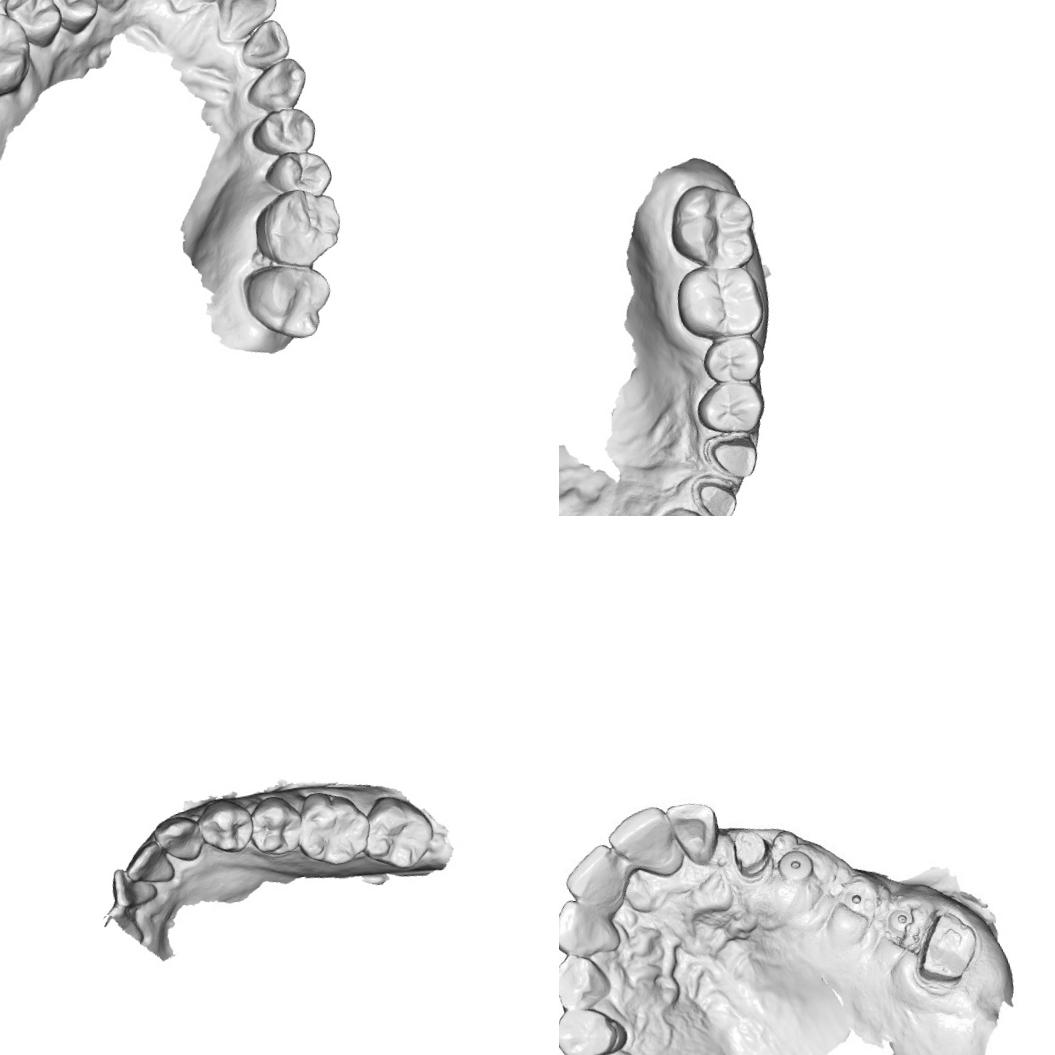canine: (238, 52, 313, 117), (559, 949, 614, 1013), (152, 808, 206, 868), (84, 0, 144, 15)
crown: (907, 904, 988, 989), (698, 429, 762, 489), (724, 820, 781, 879), (688, 470, 744, 516)
implant: (832, 873, 882, 920), (880, 898, 926, 940), (778, 846, 813, 882)
incisor: (598, 796, 682, 880), (559, 839, 631, 915), (559, 891, 617, 963), (665, 798, 723, 868), (232, 12, 295, 71), (209, 0, 285, 43), (119, 836, 178, 890), (104, 860, 160, 912), (650, 499, 727, 516)
molar: (662, 174, 762, 276), (244, 180, 348, 275), (668, 256, 773, 346), (239, 255, 338, 347), (290, 780, 380, 873), (354, 786, 441, 878), (0, 6, 39, 104)
premolar: (690, 375, 769, 442), (243, 102, 323, 164), (192, 791, 258, 861), (260, 145, 334, 204), (246, 788, 306, 860), (696, 330, 768, 389), (0, 0, 66, 54), (559, 1001, 624, 1055), (42, 0, 104, 41)
